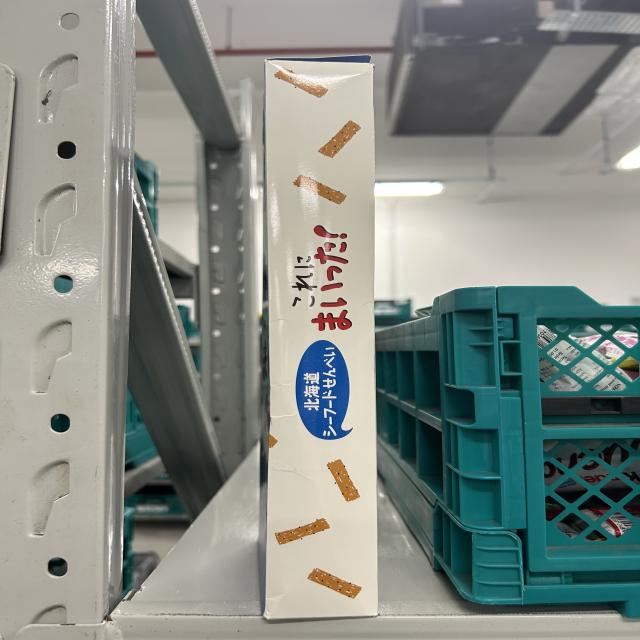object_name: (265, 60, 377, 618)
